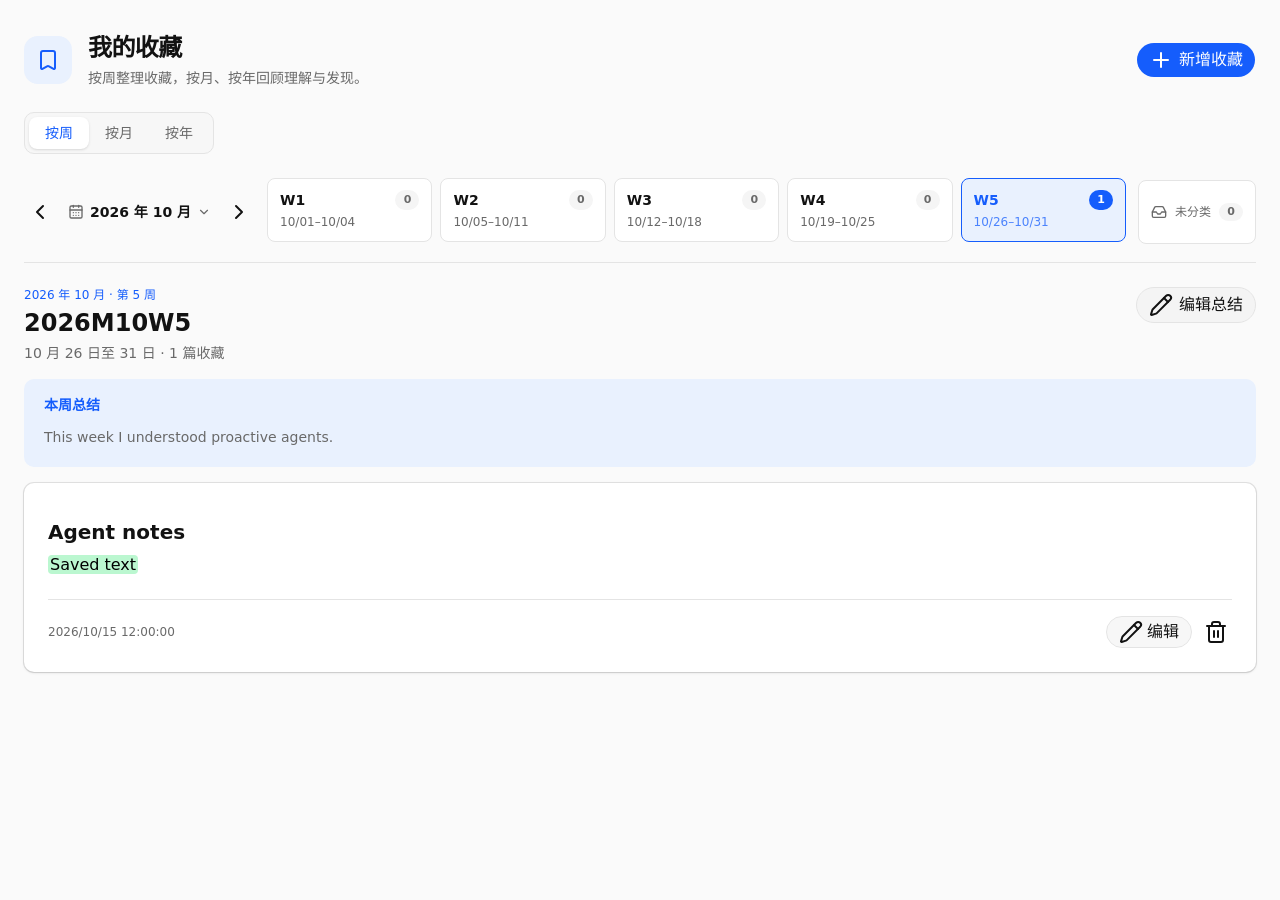
Test: weekly collections › groups the year by month and changes the year without including unassigned entries
This screenshot has width=1280, height=900.
What coordinates should you click on to do the following:
click the button "按年"
I would click on:
 (179, 133)
Its box is [149, 117, 209, 149].
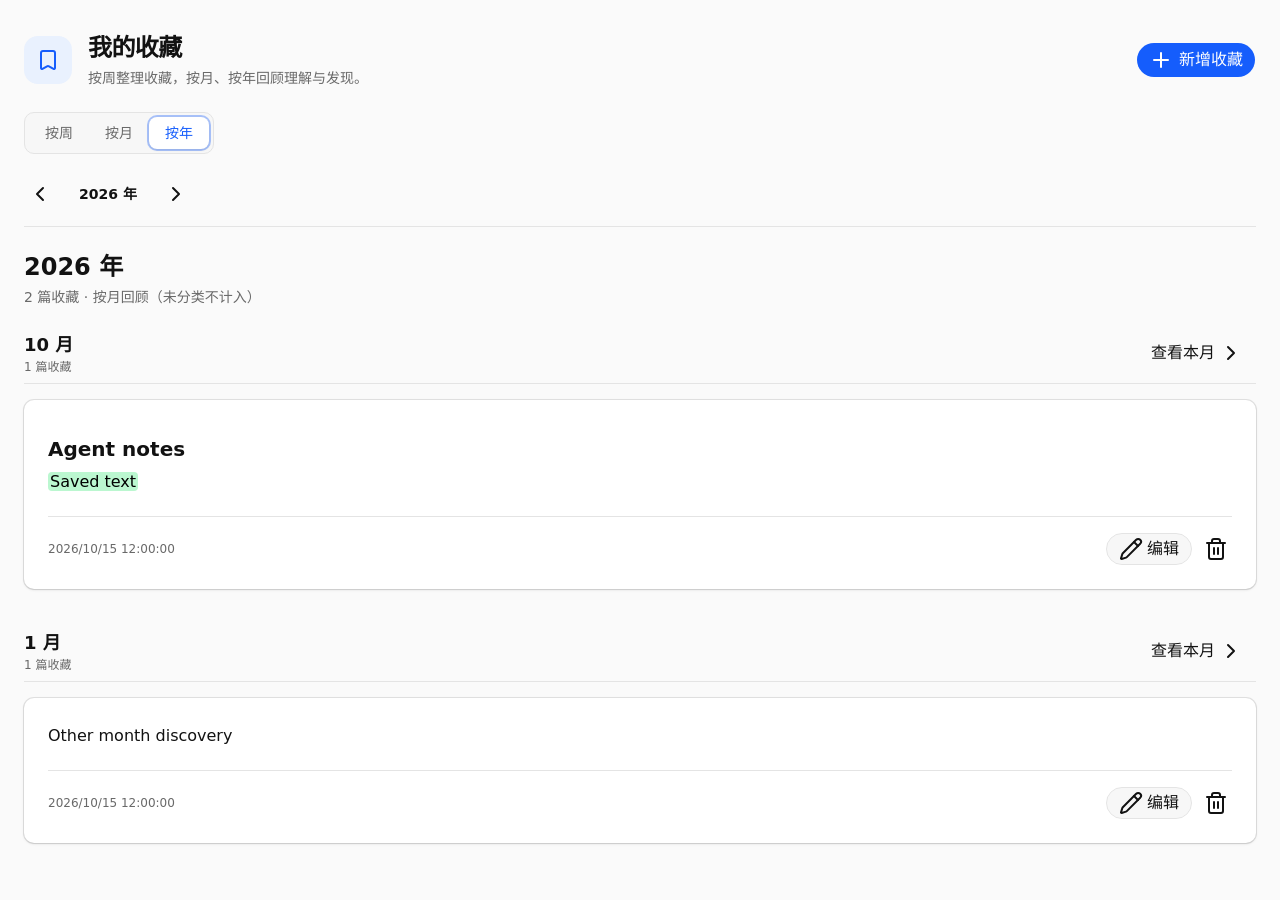
Expected: the text "Other month discovery" is shown, [48, 726, 232, 744]
Expected: the text "This week I understood proactive agents." is gone
What coordinates should you click on to do the following:
click the button named "上一年"
I would click on:
 (40, 194)
Its box is [24, 178, 56, 210].
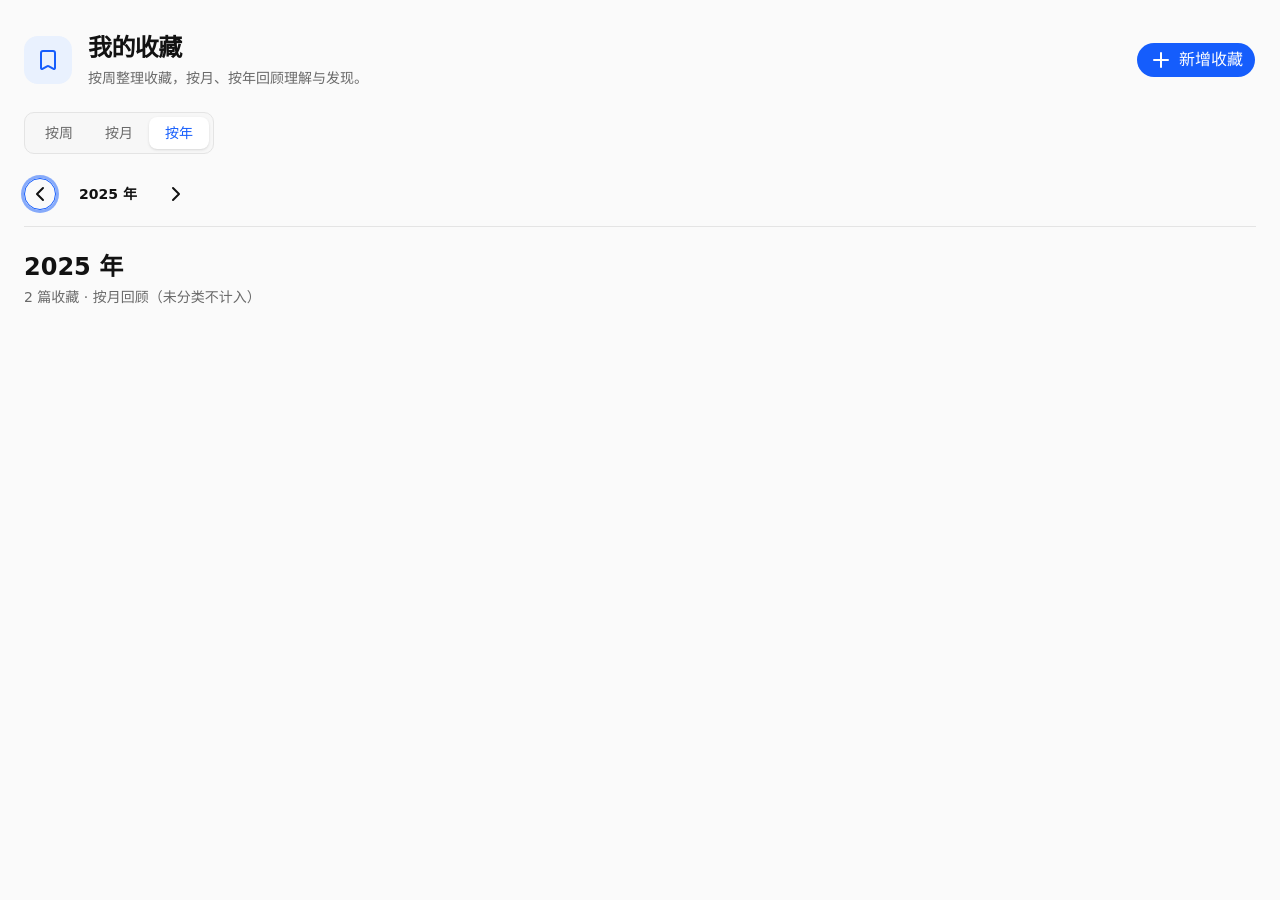
What coordinates should you click on to do the following:
click the button "按周"
I would click on:
 (59, 133)
Its box is [29, 117, 89, 149].
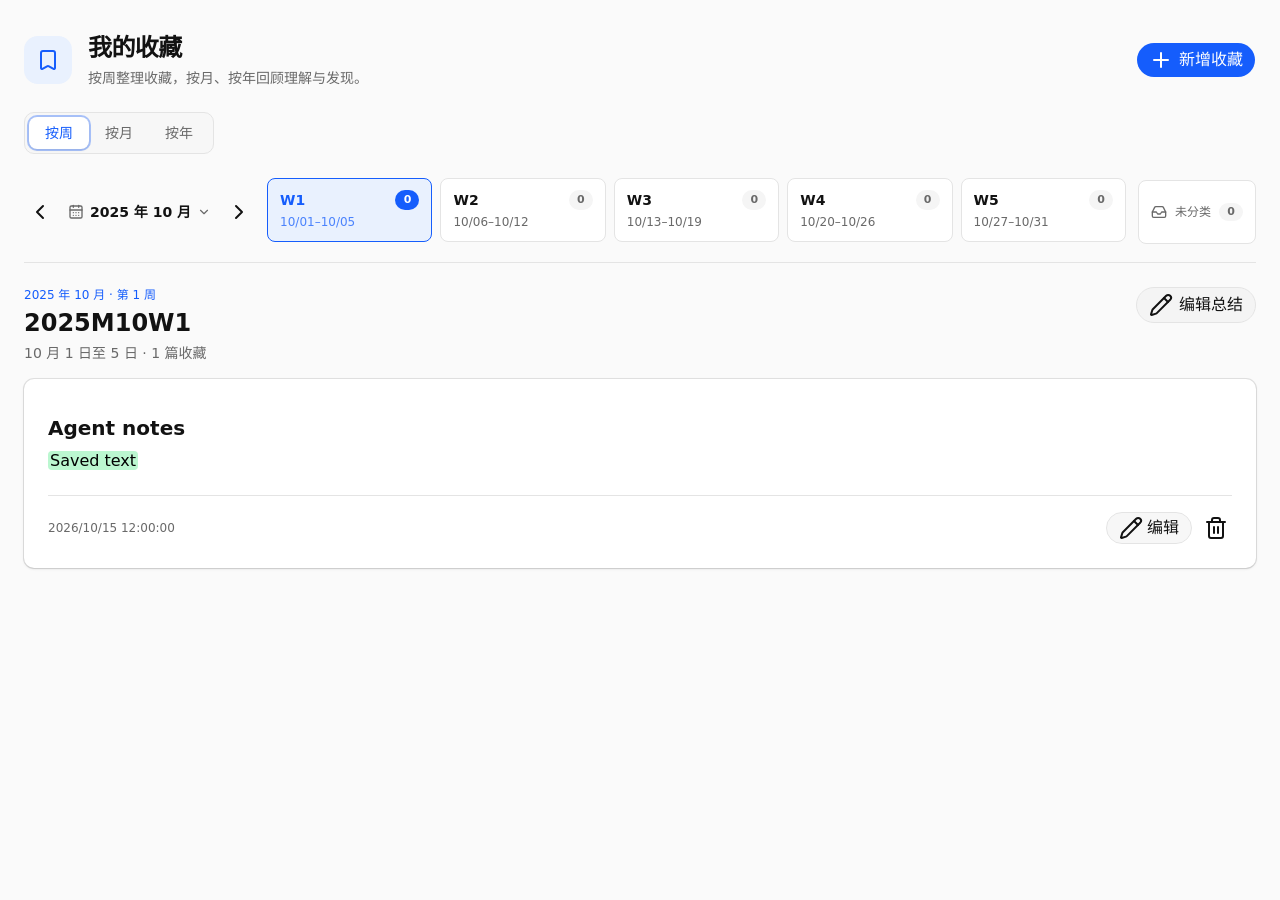
Expected: the button "未分类 0" is shown, [1138, 180, 1256, 244]
